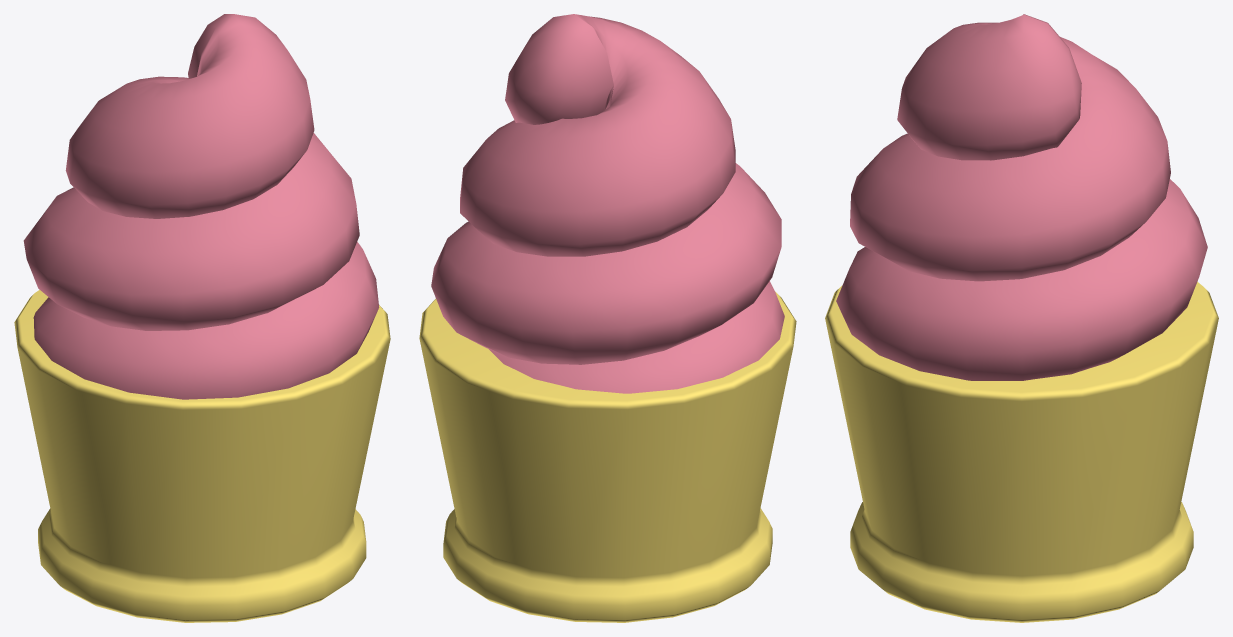
File: Cake.glb
The picture shows the model from 3 angles, left to right: view 1: azimuth 30°, elevation 25°; view 2: azimuth 150°, elevation 25°; view 3: azimuth 270°, elevation 25°; orthographic projection. The views are drawn at different scales.
Parts seen in each view (by area): view 1: Cake_1; view 2: Cake_1; view 3: Cake_1.
Boxes of the visible parts, <box> form: Cake_1: <box>14,14,390,622</box>; Cake_1: <box>419,14,796,622</box>; Cake_1: <box>825,14,1218,622</box>.
Bounding box in the file's own units: 0.1751 × 0.2723 × 0.1751.
Materials: 1 (1 with a texture image).
